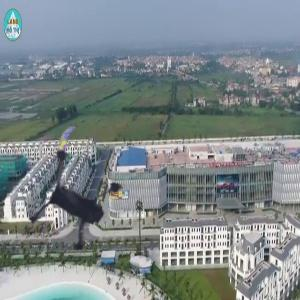drone: (14, 123, 160, 269)
